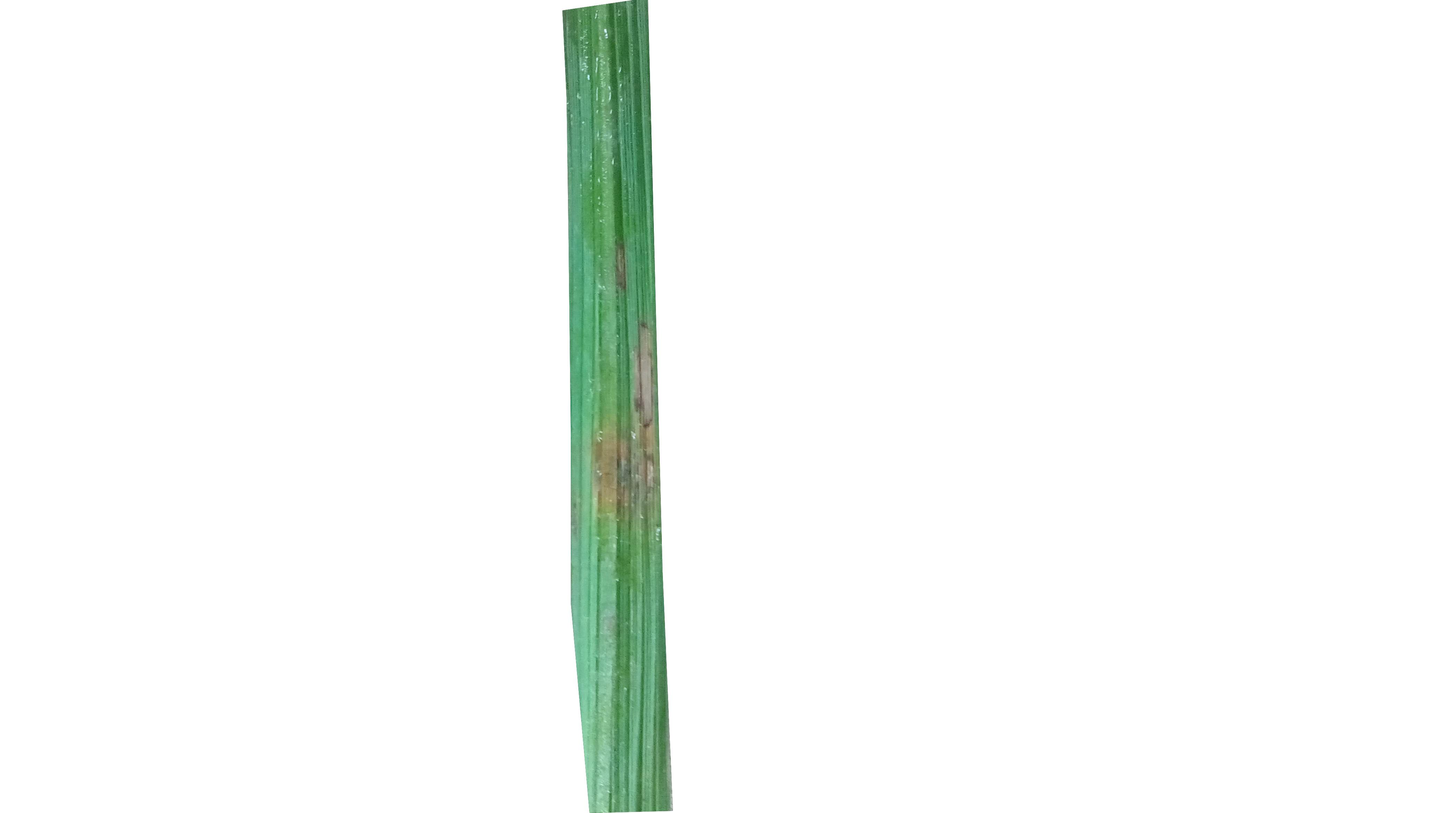Rice blast: (594, 317, 655, 528)
